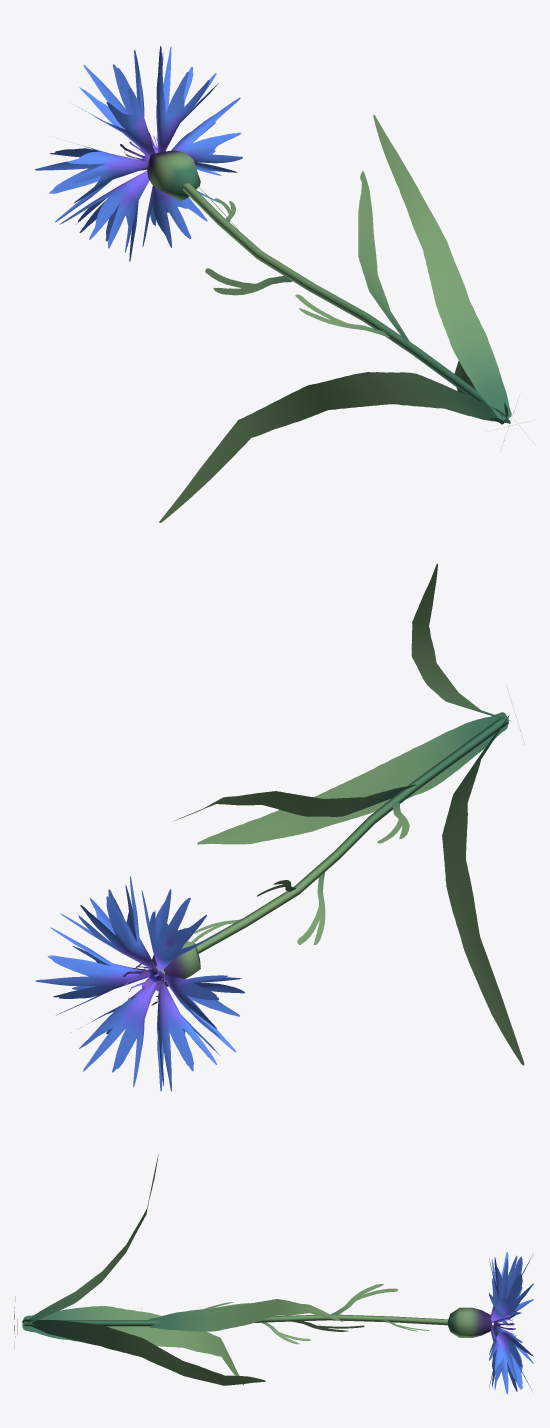
Rendered from Cornflower smaller xrotat .fbx.
The picture shows the model from 3 angles, top to bottom: view 1: azimuth 30°, elevation 25°; view 2: azimuth 150°, elevation 25°; view 3: azimuth 270°, elevation 25°; orthographic projection. The views are drawn at different scales.
Parts seen in each view (by area): view 1: cornfloweer leaf.007; view 2: cornfloweer leaf.007; view 3: cornfloweer leaf.007.
Part boxes in pixels (box(x1,y1,x2,y2)): cornfloweer leaf.007: box(34, 46, 535, 522); cornfloweer leaf.007: box(35, 563, 524, 1091); cornfloweer leaf.007: box(14, 1154, 533, 1394).
Size of the model in its own units: 34.49 by 44.38 by 71.99.
